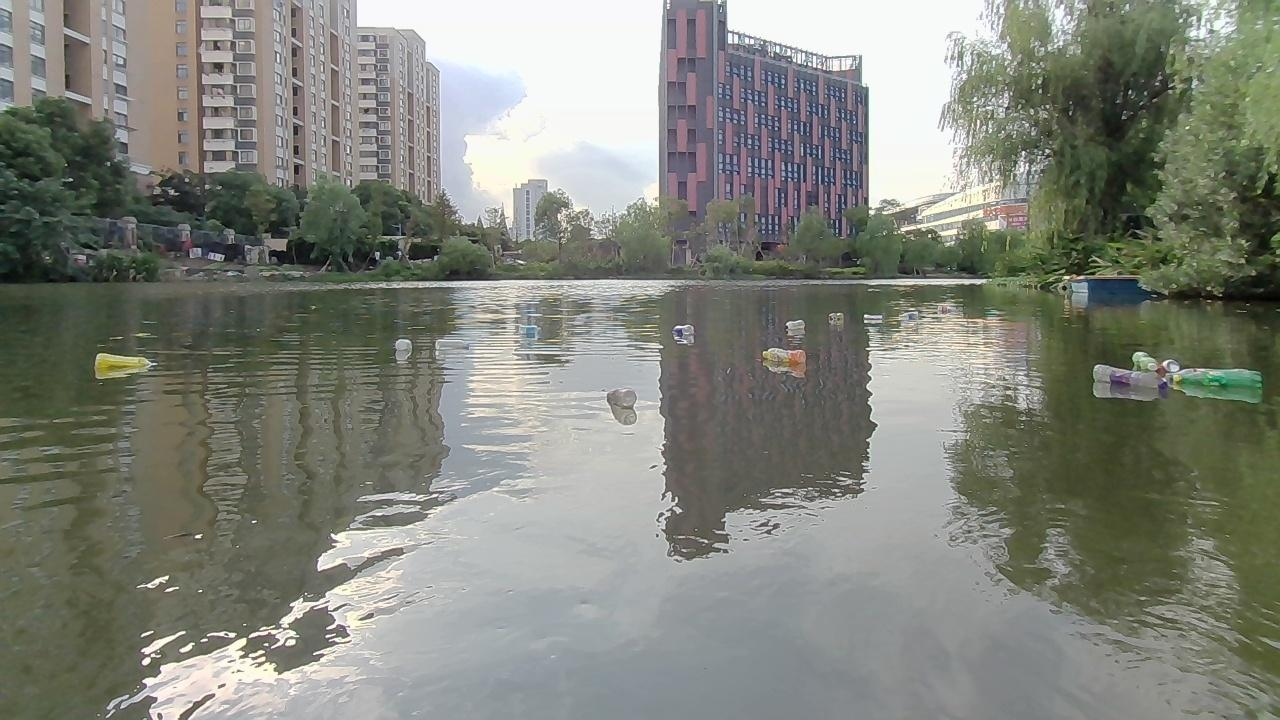bottle: (1173, 366, 1262, 402), (1091, 362, 1170, 393), (90, 351, 164, 379), (756, 346, 806, 371), (601, 383, 639, 412), (431, 335, 472, 352), (1132, 347, 1158, 370), (513, 320, 544, 338), (670, 322, 695, 338), (861, 312, 885, 327), (782, 317, 805, 332), (1156, 355, 1174, 373), (393, 337, 410, 355), (896, 309, 918, 320), (826, 307, 841, 322), (932, 303, 951, 312)
